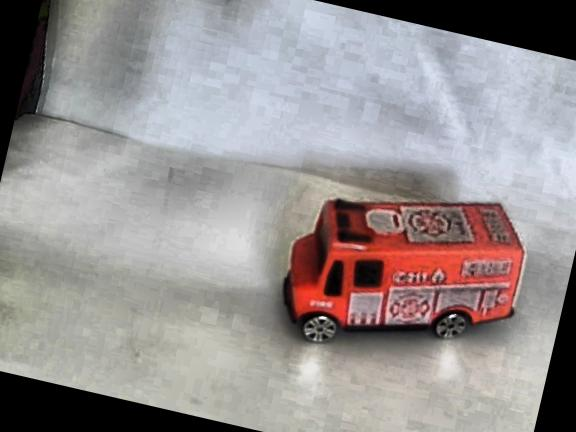fire_truck: (256, 146, 548, 389)
